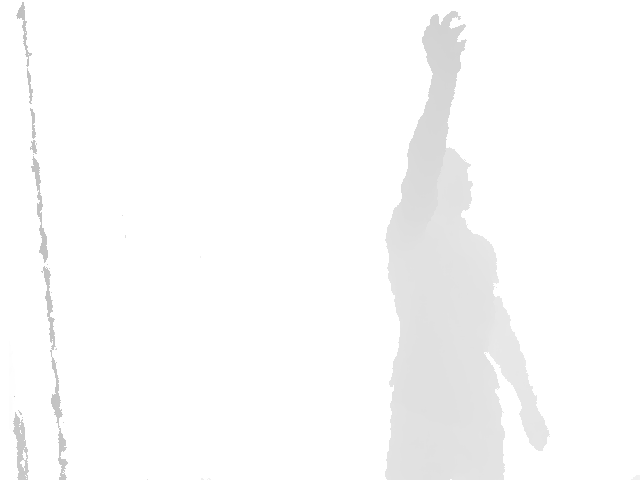hand: (421, 10, 467, 77)
hand_down: (517, 404, 550, 453)
head: (418, 148, 473, 216)
person: (384, 10, 551, 480)
